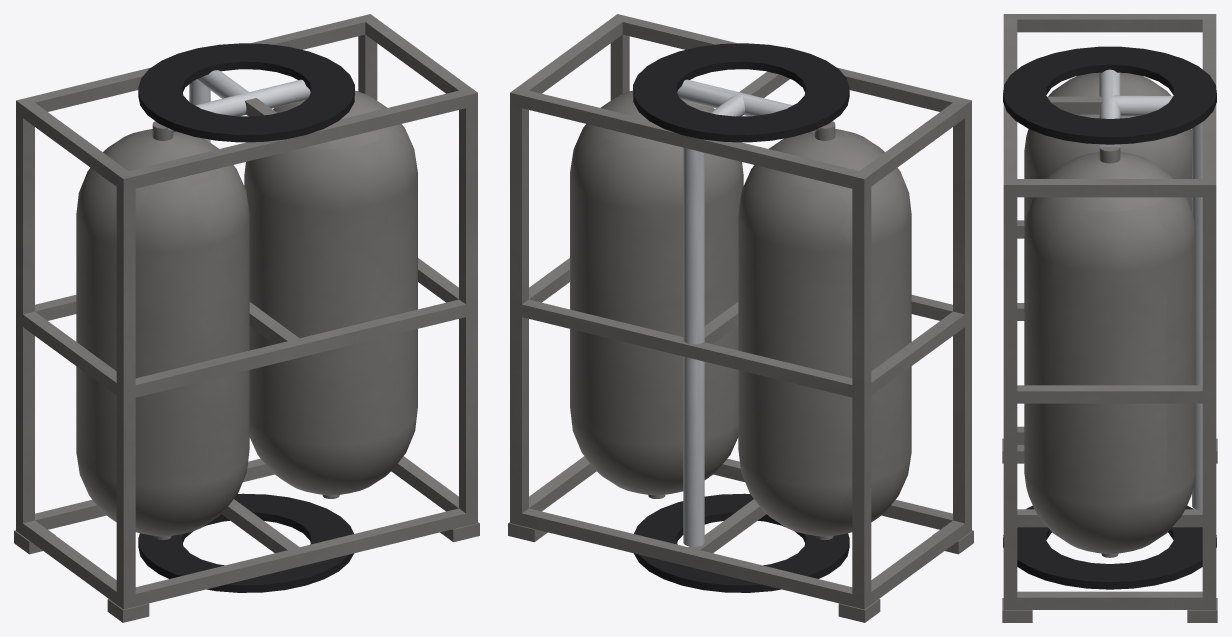
Rendered from tank03_hypergol_xs.glb.
3 renders of one model, left to right at view 1: azimuth 30°, elevation 25°; view 2: azimuth 150°, elevation 25°; view 3: azimuth 270°, elevation 25°, orthographic.
Visible parts, largest first — view 1: frame, tank_nto, tank_mmh, stack_rings, plumbing; view 2: frame, tank_mmh, tank_nto, stack_rings, plumbing; view 3: tank_nto, frame, stack_rings, tank_mmh, plumbing.
Part boxes in pixels (x1,y1,x2,y2): frame: (14,14,479,622); tank_nto: (244,90,417,498); tank_mmh: (76,121,249,540); stack_rings: (138,43,354,592); plumbing: (168,70,310,142); frame: (508,14,973,622); tank_mmh: (738,121,911,540); tank_nto: (570,90,743,498); stack_rings: (633,43,849,592); plumbing: (677,79,819,546); tank_nto: (1024,147,1195,557); frame: (1002,14,1217,622); stack_rings: (1003,46,1216,589); tank_mmh: (1024,72,1191,230); plumbing: (1099,69,1202,510).
Bounding box in the file's own units: 1.19 × 1.46 × 0.628.
3 materials, 2 textured.
